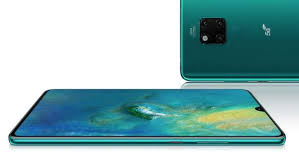huawei: (6, 84, 287, 148)
